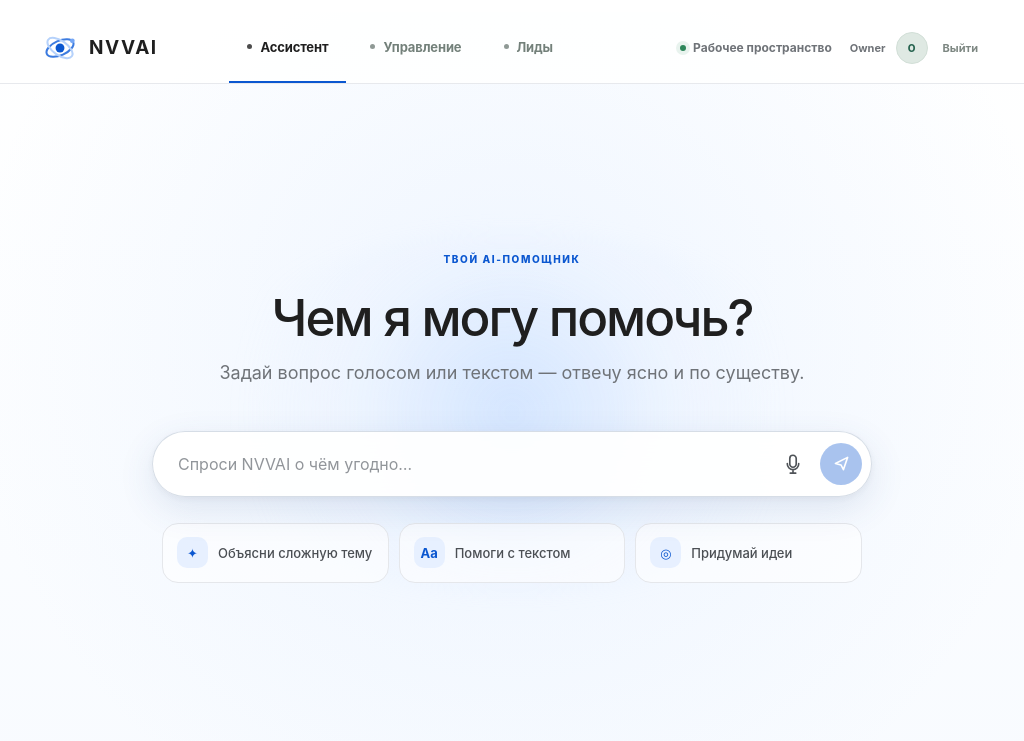
Scenario: navigates to the Leads workspace from the main navigation
This screenshot has width=1024, height=741.
Expected: the heading "Чем я могу помочь?" is shown, 272,286 -> 752,348
Click the button "Лиды": point(528, 48) 486,12 -> 571,83
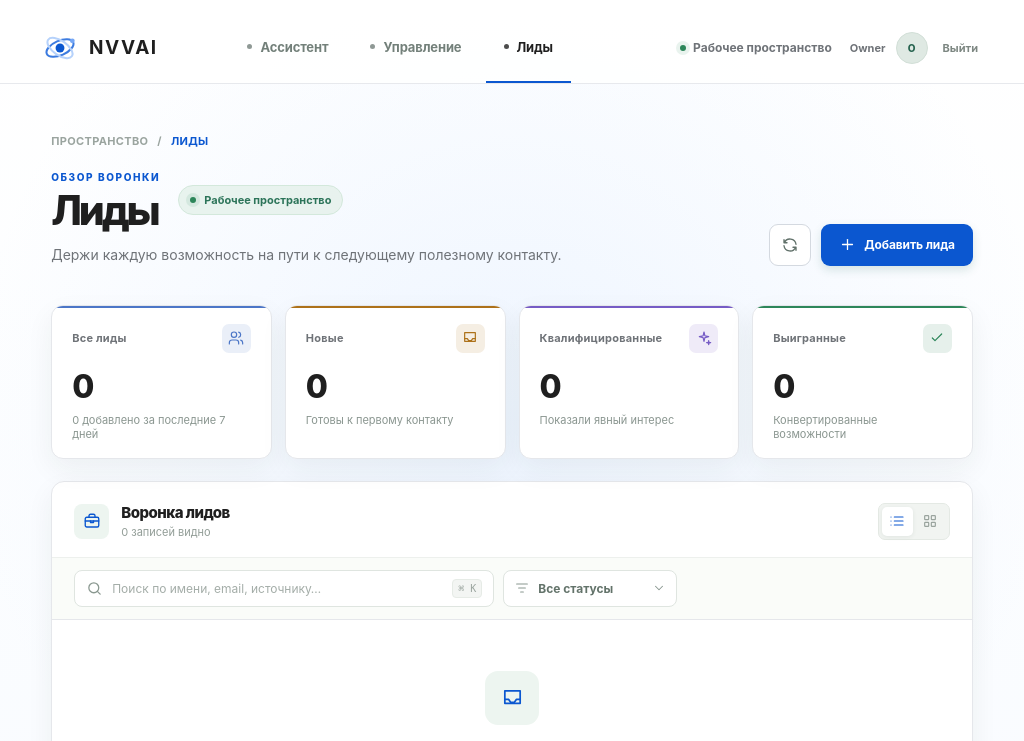
Result: the heading "Лиды" is shown at 51,191 -> 160,230
